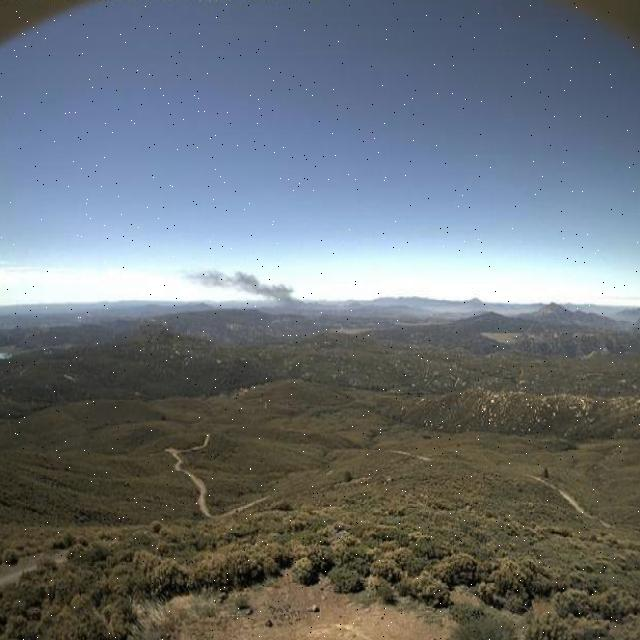smoke: (178, 262, 308, 314)
